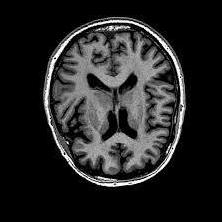Normal_Brain: (3, 1, 222, 221)
